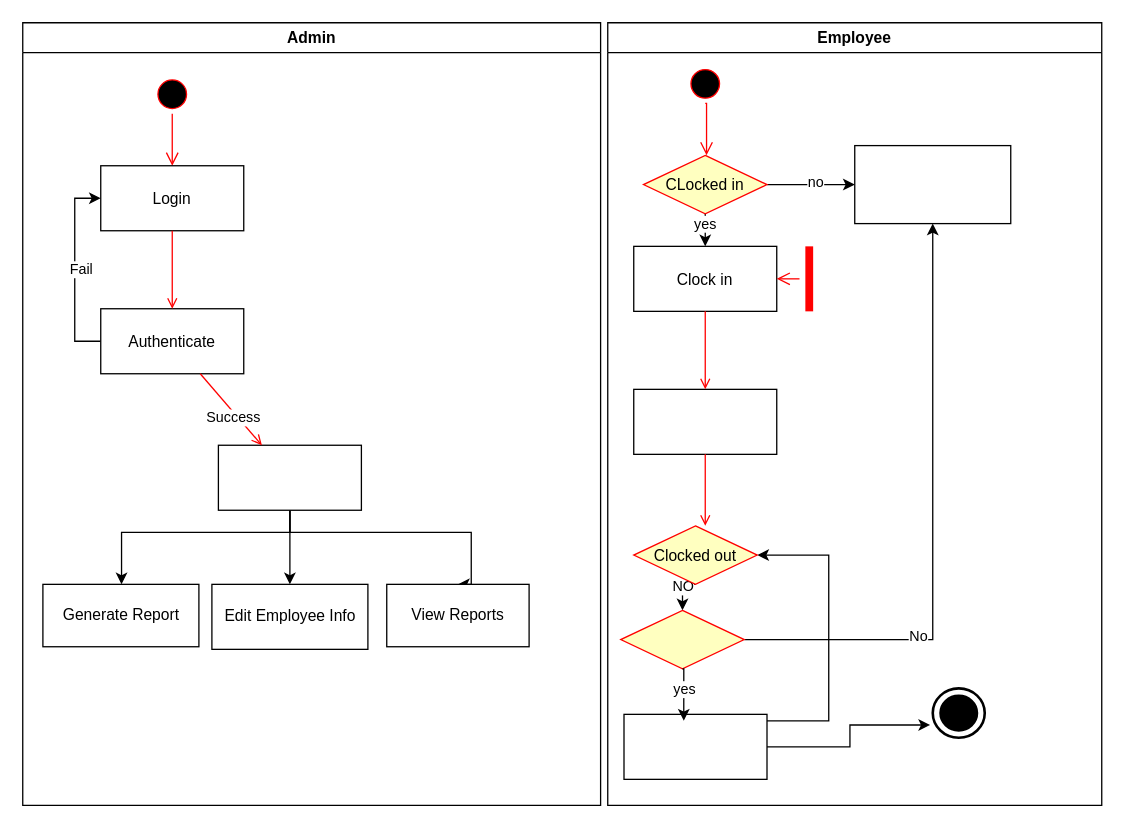
The diagram is 1125 pixels wide and 828 high, and some of its shapes have lost their labels. The shapes that lost their labels are listed below. From the top down, each one's centre as x and y in pixels, then its label:
point (932, 184): send email notification
point (704, 421): Shift start
point (289, 477): View Dashboard
point (681, 639): Overtime
point (695, 746): Calculate O.T.
